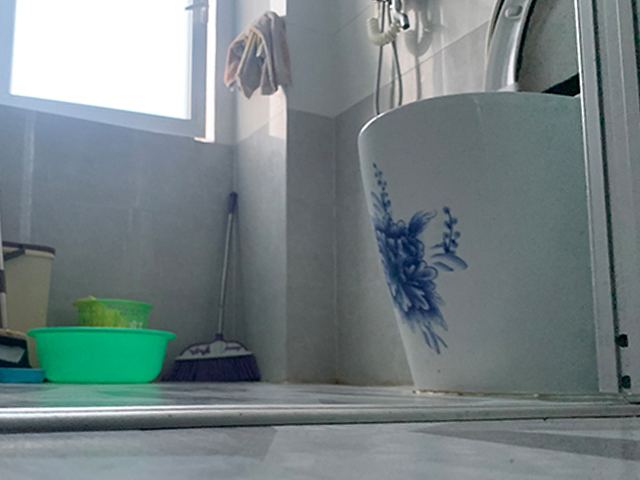closestool: (356, 1, 600, 398)
